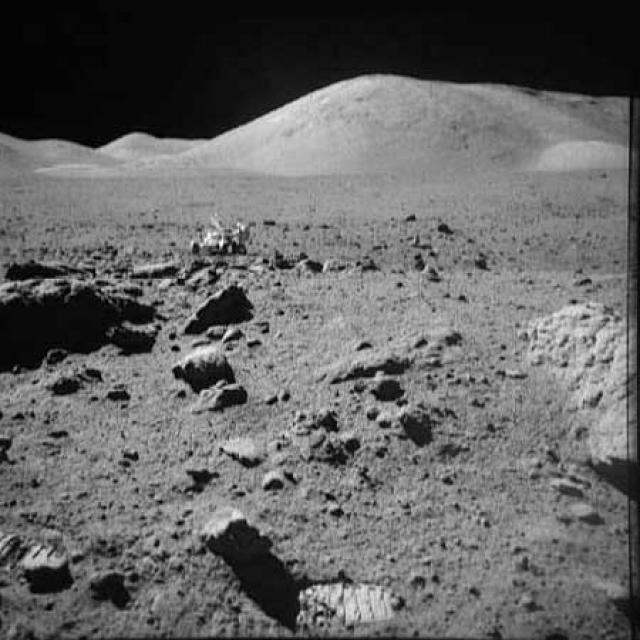artifact: (179, 206, 267, 263)
rock: (523, 289, 637, 471), (0, 258, 162, 354), (288, 397, 370, 464), (180, 285, 268, 332), (197, 495, 263, 556), (183, 376, 263, 426), (308, 351, 424, 379), (23, 537, 79, 593), (162, 345, 240, 383), (542, 495, 602, 531), (210, 435, 265, 473), (109, 313, 157, 352), (395, 400, 443, 438), (325, 250, 385, 276), (286, 248, 319, 282)
